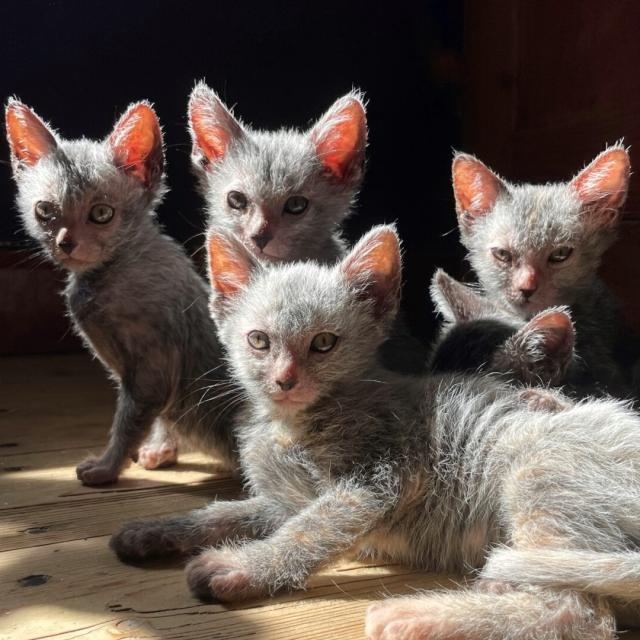Lykoi: (110, 224, 640, 640), (0, 84, 239, 490), (172, 63, 378, 267), (441, 127, 634, 321)
